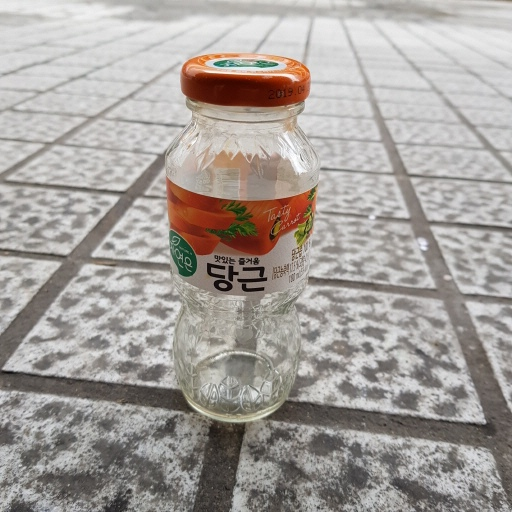Glass_4: (163, 50, 322, 433)
